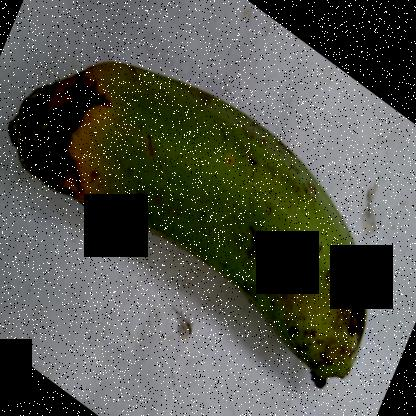rotten: (0, 45, 148, 243)
unripe: (126, 57, 384, 400)
